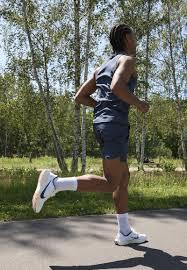nike logo: (38, 176, 53, 202), (126, 234, 141, 240)
